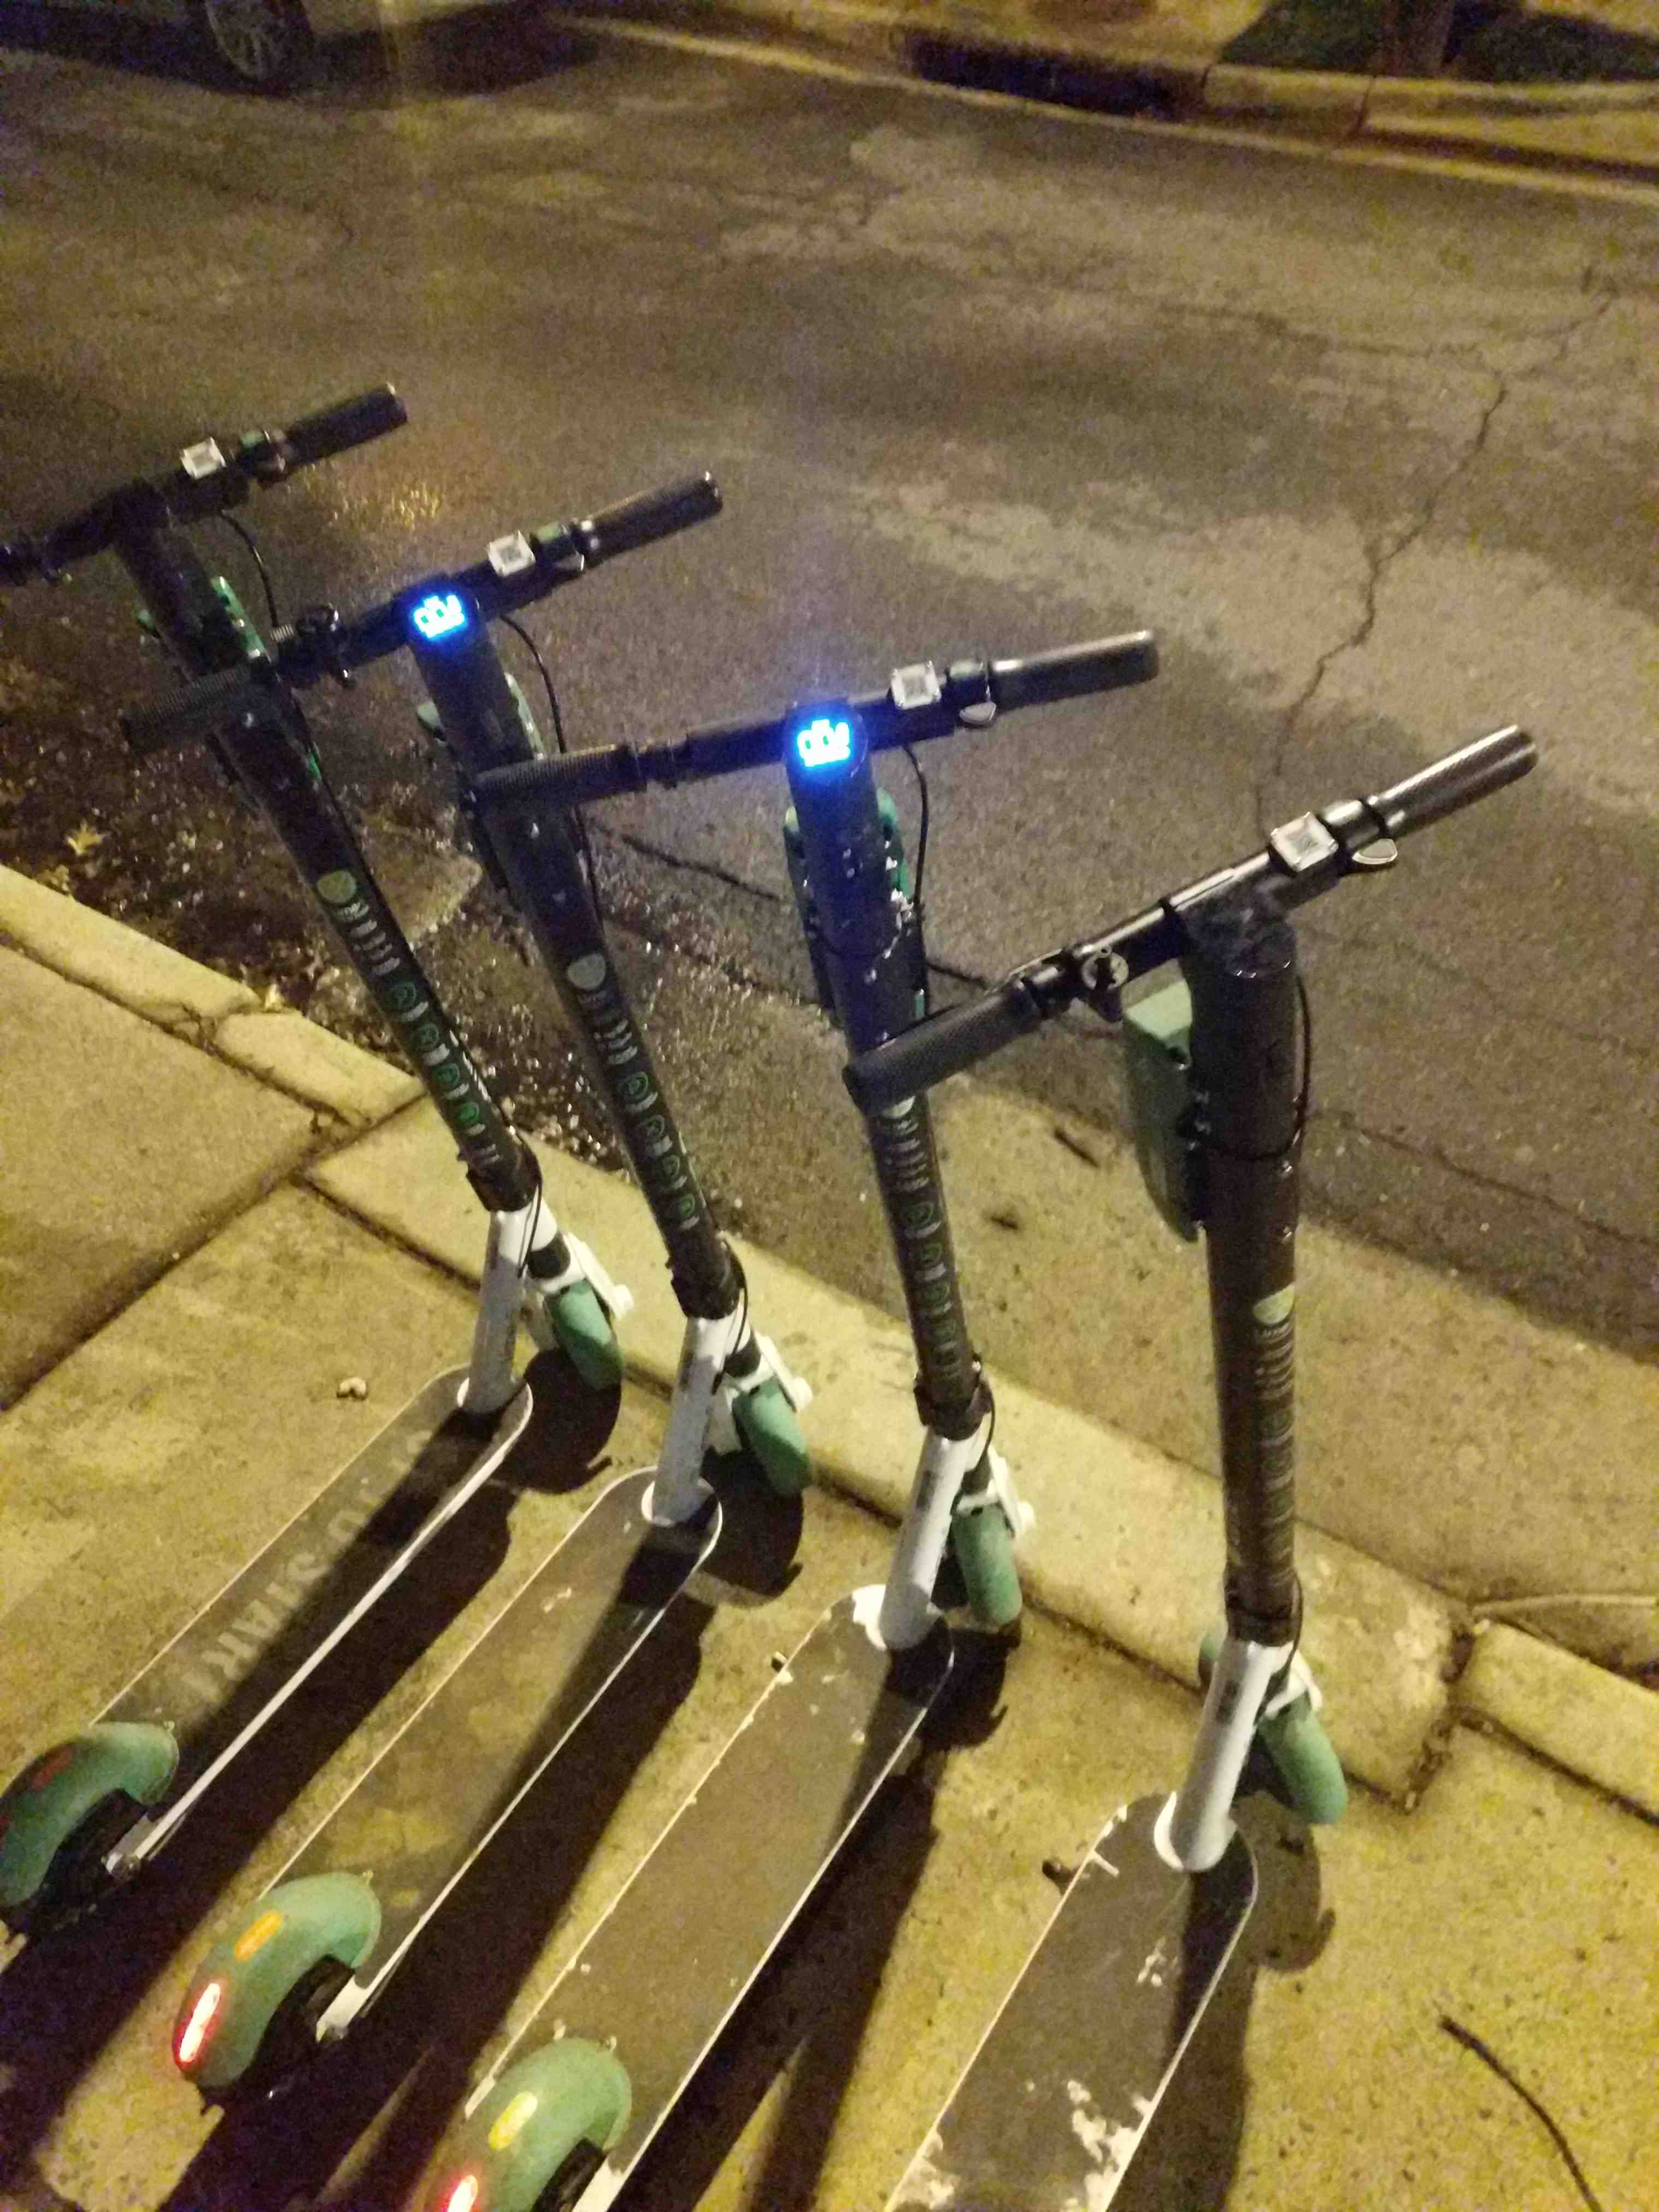too close: (840, 1324, 1084, 1817), (1117, 1449, 1412, 1844), (633, 1186, 889, 1618), (397, 1134, 647, 1465)
